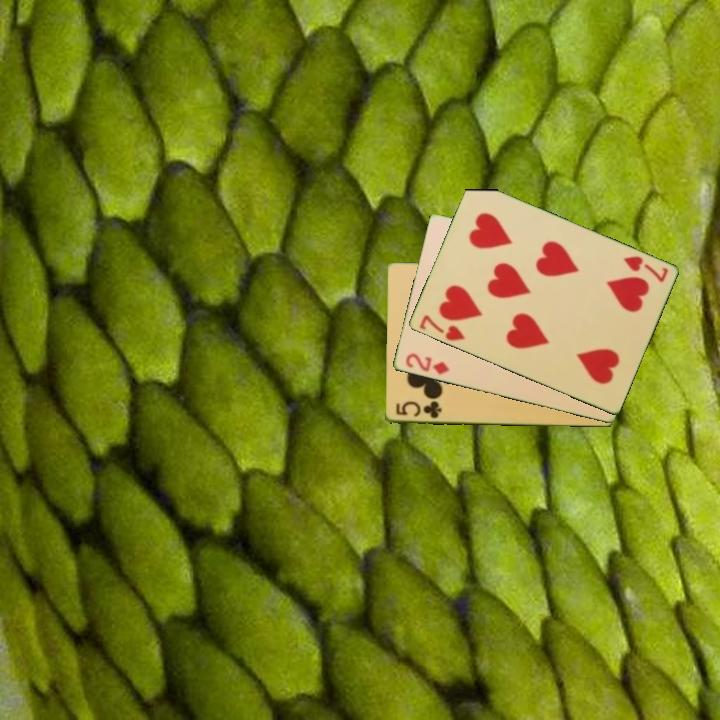2d: (402, 350, 452, 378)
5c: (392, 398, 444, 421)
7h: (415, 311, 468, 344), (619, 252, 671, 285)
